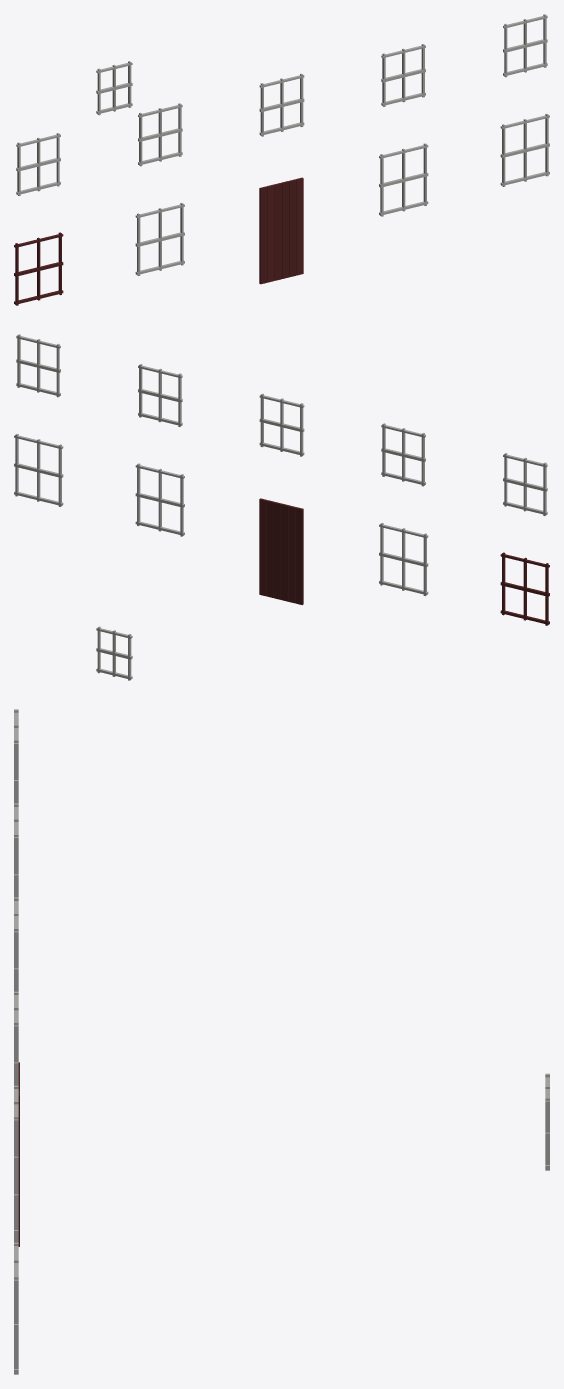
The model's file is SM_Bld_162_Wood.glb.
The picture shows the model from 3 angles, top to bottom: view 1: azimuth 30°, elevation 25°; view 2: azimuth 150°, elevation 25°; view 3: azimuth 270°, elevation 25°; orthographic projection. The views are drawn at different scales.
Parts seen in each view (by area): view 1: SM_Bld_162_Wood; view 2: SM_Bld_162_Wood; view 3: SM_Bld_162_Wood.
Part boxes in pixels (x1,y1,x2,y2): SM_Bld_162_Wood: (14, 14, 549, 305); SM_Bld_162_Wood: (14, 334, 549, 680); SM_Bld_162_Wood: (14, 709, 549, 1374).
Bounding box in the file's own units: 12.3 × 4.4 × 6.74.
